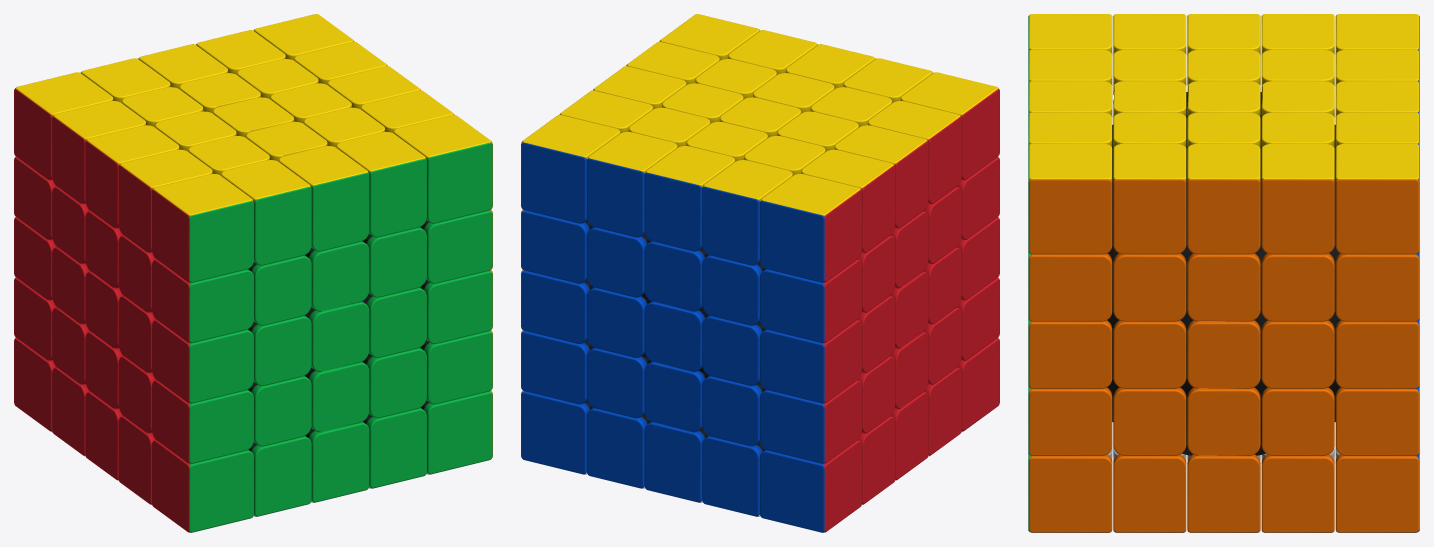
3 views of the same model, side by side, from view 1: azimuth 30°, elevation 25°; view 2: azimuth 150°, elevation 25°; view 3: azimuth 270°, elevation 25° (orthographic). The views are drawn at different scales.
Visible parts, largest first — view 1: piece_-2,2,2, piece_-2,-2,2, piece_2,2,2, piece_-2,0,2, piece_-2,1,2, piece_-2,-1,2, piece_0,2,2, piece_-1,2,2, piece_1,2,2, piece_-2,2,-2, piece_2,-2,2, piece_-2,2,-1 (+49 smaller); view 2: piece_-2,2,-2, piece_-2,-2,-2, piece_2,2,-2, piece_-2,0,-2, piece_-2,1,-2, piece_-2,-1,-2, piece_0,2,-2, piece_-1,2,-2, piece_1,2,-2, piece_-2,2,2, piece_2,-2,-2, piece_-2,2,0 (+49 smaller); view 3: piece_2,2,-2, piece_2,2,2, piece_2,2,-1, piece_2,2,0, piece_2,2,1, piece_2,-2,2, piece_2,-2,-2, piece_2,0,2, piece_2,0,-2, piece_2,1,2, piece_2,1,-2, piece_2,-2,0 (+34 smaller).
Part boxes in pixels (x1=…): piece_-2,2,2: x1=152, y1=174, x2=253, y2=282; piece_-2,-2,2: x1=152, y1=440, x2=253, y2=532; piece_2,2,2: x1=393, y1=115, x2=492, y2=223; piece_-2,0,2: x1=152, y1=320, x2=253, y2=403; piece_-2,1,2: x1=152, y1=259, x2=253, y2=343; piece_-2,-1,2: x1=152, y1=380, x2=253, y2=463; piece_0,2,2: x1=278, y1=146, x2=369, y2=251; piece_-1,2,2: x1=221, y1=160, x2=311, y2=265; piece_1,2,2: x1=336, y1=132, x2=426, y2=237; piece_-2,2,-2: x1=14, y1=72, x2=113, y2=180; piece_2,-2,2: x1=420, y1=391, x2=492, y2=474; piece_-2,2,-1: x1=52, y1=101, x2=145, y2=204; piece_-2,2,-2: x1=760, y1=174, x2=861, y2=282; piece_-2,-2,-2: x1=760, y1=440, x2=861, y2=532; piece_2,2,-2: x1=521, y1=115, x2=620, y2=223; piece_-2,0,-2: x1=760, y1=320, x2=861, y2=403; piece_-2,1,-2: x1=760, y1=259, x2=861, y2=343; piece_-2,-1,-2: x1=760, y1=380, x2=861, y2=463; piece_0,2,-2: x1=644, y1=146, x2=735, y2=251; piece_-1,2,-2: x1=702, y1=160, x2=792, y2=265; piece_1,2,-2: x1=587, y1=132, x2=677, y2=237; piece_-2,2,2: x1=900, y1=72, x2=999, y2=180; piece_2,-2,-2: x1=521, y1=391, x2=593, y2=474; piece_-2,2,0: x1=834, y1=125, x2=928, y2=228; piece_2,2,-2: x1=1335, y1=143, x2=1419, y2=254; piece_2,2,2: x1=1028, y1=143, x2=1112, y2=254; piece_2,2,-1: x1=1261, y1=143, x2=1334, y2=254; piece_2,2,0: x1=1187, y1=143, x2=1260, y2=254; piece_2,2,1: x1=1113, y1=143, x2=1186, y2=254; piece_2,-2,2: x1=1028, y1=454, x2=1112, y2=532; piece_2,-2,-2: x1=1335, y1=454, x2=1419, y2=532; piece_2,0,2: x1=1028, y1=320, x2=1112, y2=388; piece_2,0,-2: x1=1335, y1=320, x2=1419, y2=388; piece_2,1,2: x1=1028, y1=253, x2=1112, y2=321; piece_2,1,-2: x1=1335, y1=253, x2=1419, y2=321; piece_2,-2,0: x1=1187, y1=454, x2=1260, y2=532.
Bounding box in the file's own units: 2 × 2 × 2.
